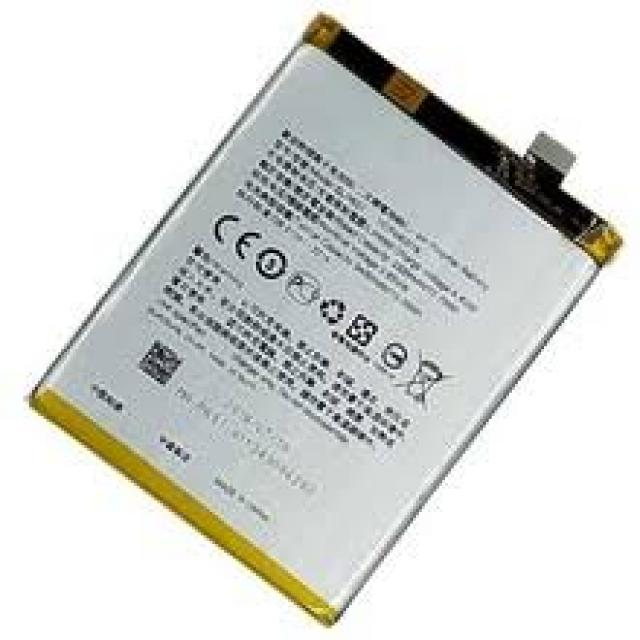non-organic waste: (33, 13, 628, 626)
